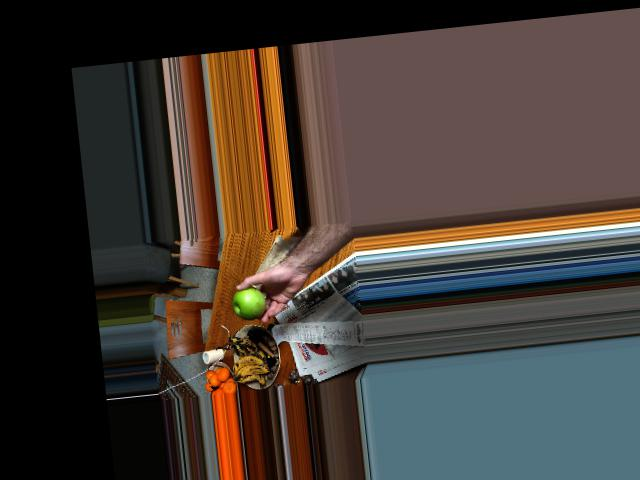apple: (231, 284, 266, 318)
